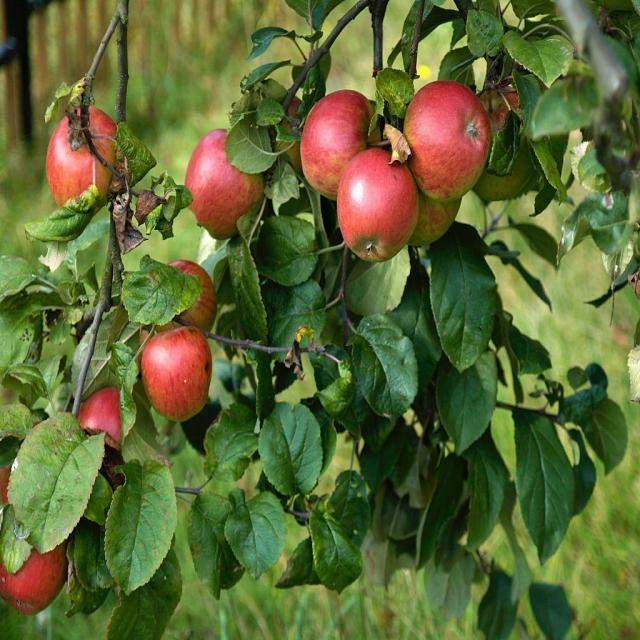Red Apple: (406, 85, 489, 189), (42, 108, 126, 209), (340, 149, 415, 258), (188, 131, 263, 231), (482, 83, 543, 199), (302, 93, 380, 183), (141, 326, 212, 418), (4, 530, 66, 620), (402, 167, 466, 243), (160, 258, 218, 325), (82, 384, 132, 452), (1, 463, 20, 505)
